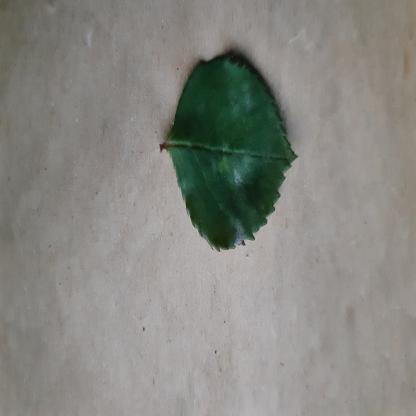powdery-mildew: (166, 48, 300, 254)
